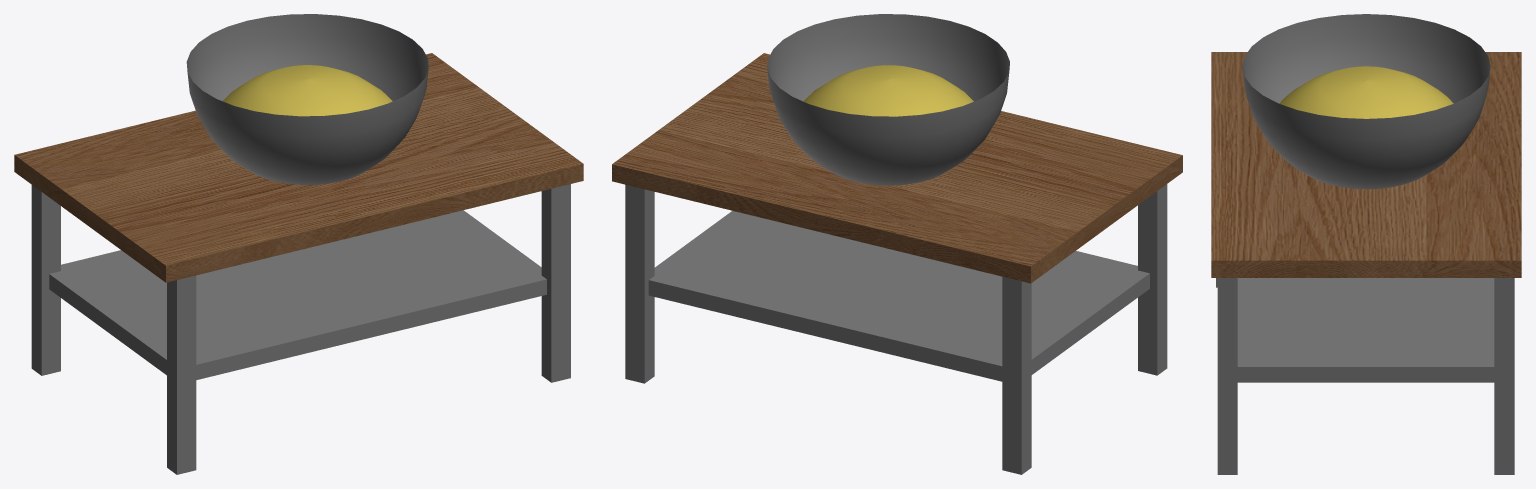
File: Bowl.fbx
The picture shows the model from 3 angles, left to right: view 1: azimuth 30°, elevation 25°; view 2: azimuth 150°, elevation 25°; view 3: azimuth 270°, elevation 25°; orthographic projection. The views are drawn at different scales.
Visible parts, largest first — view 1: Cube.082, Cube.081, Sphere.022, Sphere.023, Cube.080, Cube.077, Cube.079; view 2: Cube.082, Cube.081, Sphere.022, Sphere.023, Cube.079, Cube.078, Cube.080; view 3: Cube.082, Sphere.022, Cube.081, Sphere.023, Cube.077, Cube.078.
Boxes of the visible parts, x1,y1,x2,y2 form: Cube.082: (14,53,583,282); Cube.081: (49,210,546,379); Sphere.022: (186,14,428,184); Sphere.023: (223,65,392,116); Cube.080: (167,275,196,474); Cube.077: (541,184,570,382); Cube.079: (31,185,60,375); Cube.082: (612,53,1182,283); Cube.081: (648,211,1149,381); Sphere.022: (767,14,1009,185); Sphere.023: (803,65,973,116); Cube.079: (1002,276,1031,474); Cube.078: (625,184,654,383); Cube.080: (1138,184,1167,375); Cube.082: (1211,52,1521,277); Sphere.022: (1242,14,1490,189); Cube.081: (1237,278,1494,382); Sphere.023: (1279,66,1453,118); Cube.077: (1217,278,1237,474); Cube.078: (1494,278,1514,474).
Size of the model in its own units: 861 by 603 by 541.
Materials: 6 (2 with a texture image).
